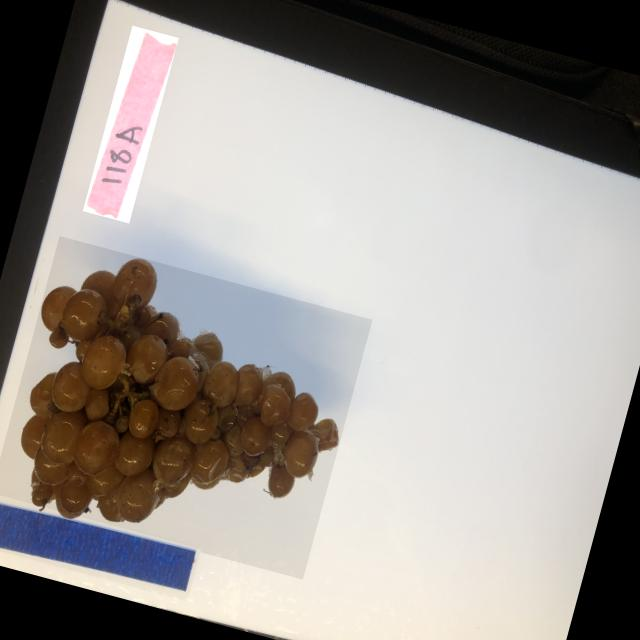grape_cluster: (0, 234, 372, 578)
index: (82, 24, 178, 222)
measure_label: (0, 491, 200, 600)
